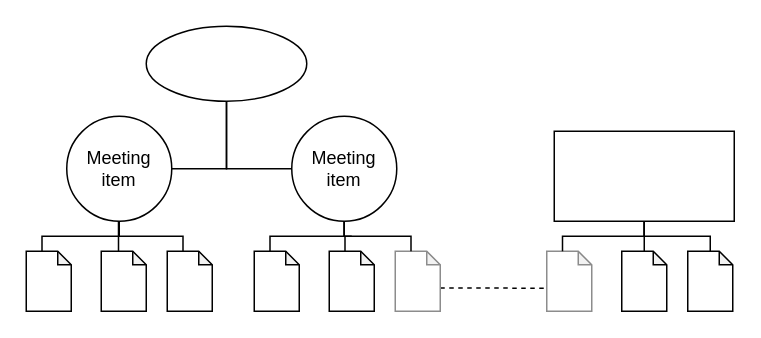
This 761x338 diagram has some shape labels left out. The shapes that lost their labels are listed below. From the top down, each one's centre as x and y in pixels, then its label:
[226,63]: Meeting
[643,175]: Entry
